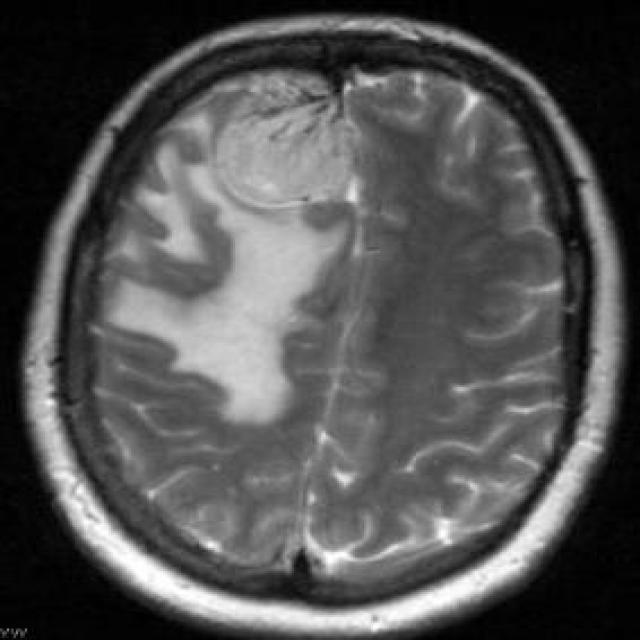Tumor-Cell: (200, 93, 380, 218)
